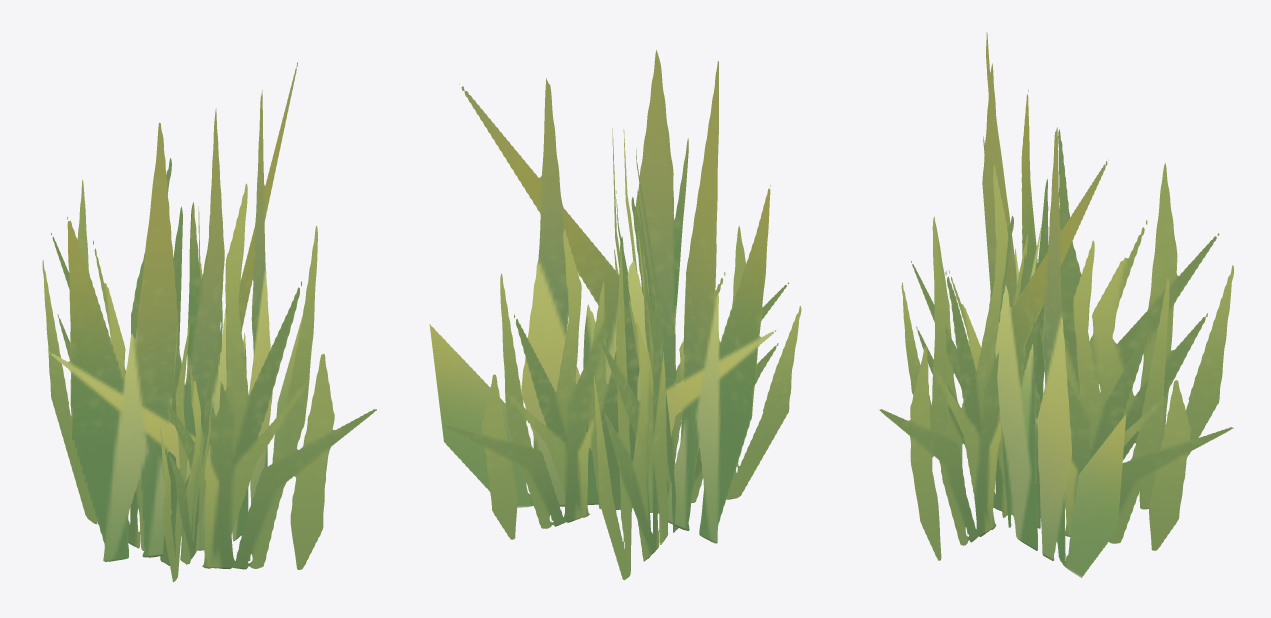
The model's file is grass_cluster_5.fbx.
3 renders of one model, left to right at view 1: azimuth 30°, elevation 25°; view 2: azimuth 150°, elevation 25°; view 3: azimuth 270°, elevation 25°, orthographic. The views are drawn at different scales.
Visible parts, largest first — view 1: grass; view 2: grass; view 3: grass.
Boxes of the visible parts, bbox=[...] form: grass: bbox=[42, 62, 376, 581]; grass: bbox=[429, 50, 801, 580]; grass: bbox=[879, 32, 1233, 577].
Bounding box in the file's own units: 147 × 210 × 144.
